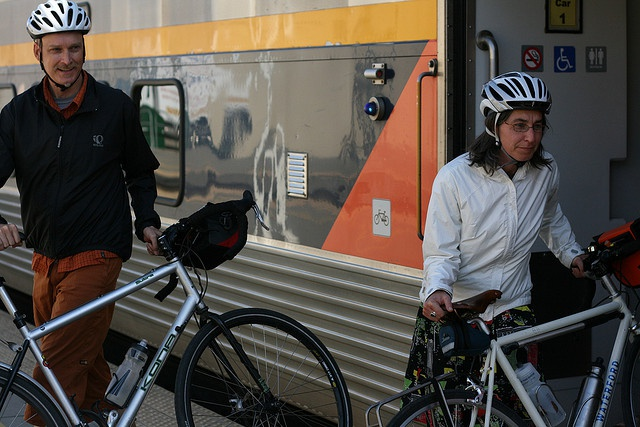non-vehicle: (2, 182, 354, 421), (365, 222, 640, 427)
